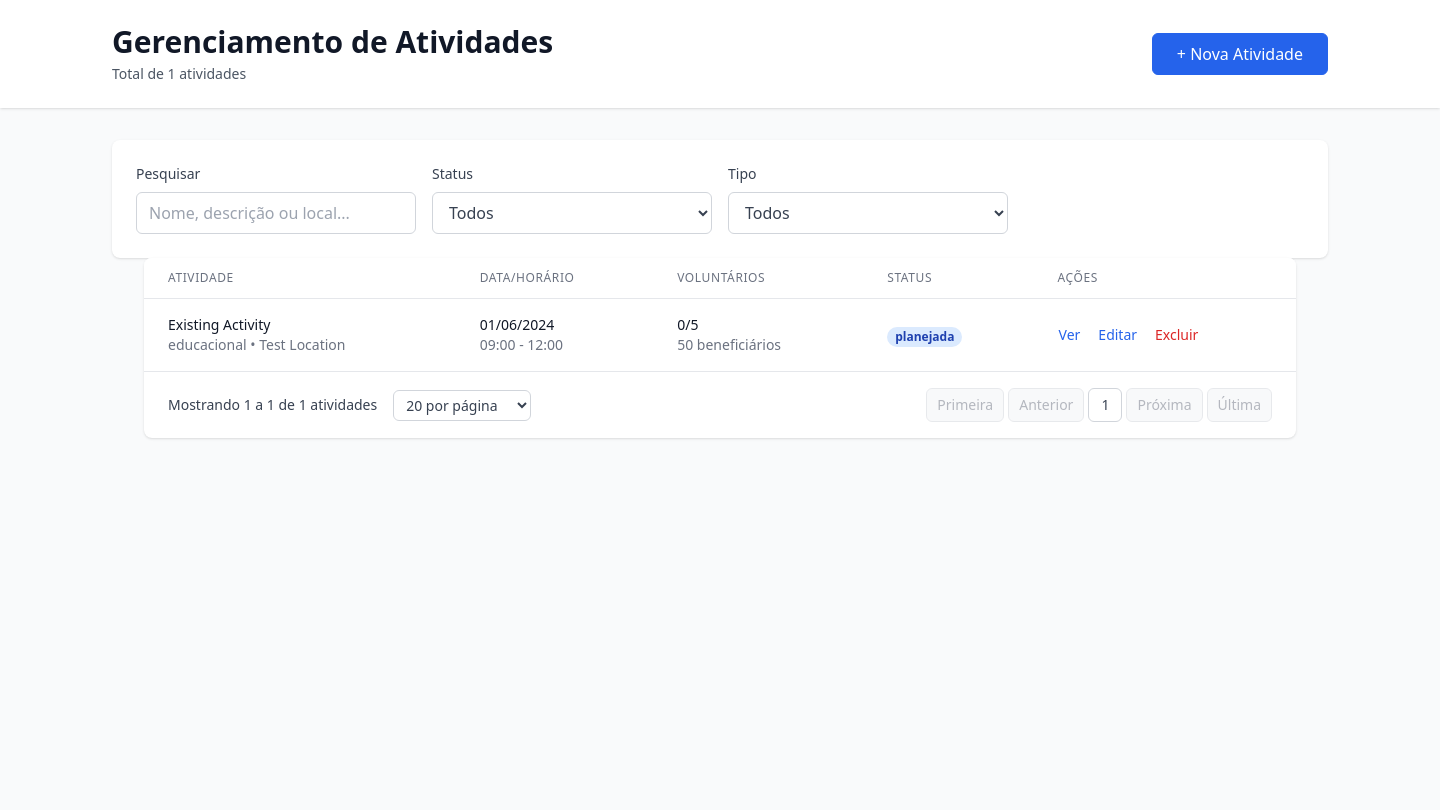
Test: ONGActivitiesPage › Edit Activity › should open edit modal with activity data
Step 1. Click the button "Editar" → {"x": 1118, "y": 335}, box 1097,324 -> 1138,346
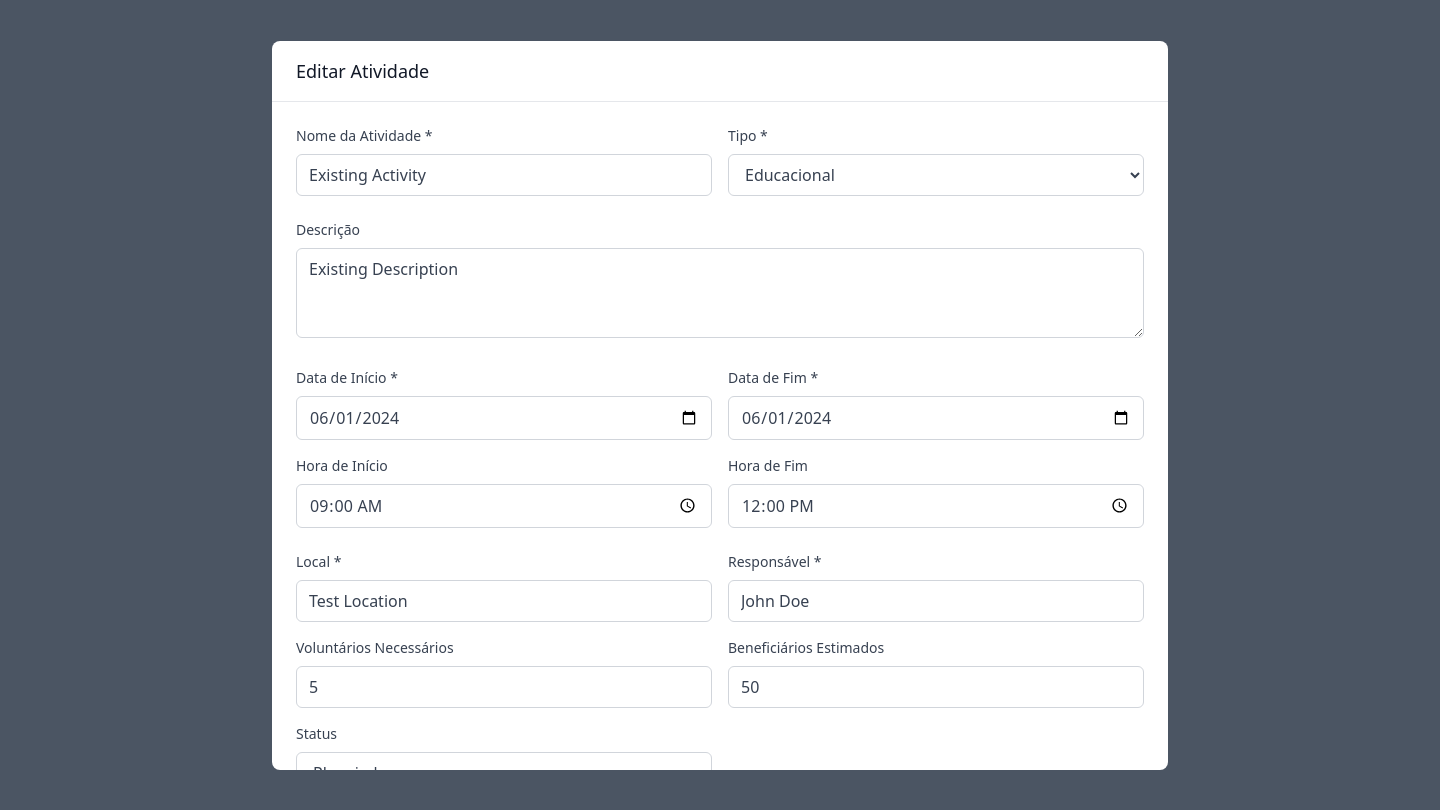
Result: the heading "Editar Atividade" is shown at 296,58 -> 429,82
Result: the field showing "Existing Activity" below "Nome da Atividade *" is shown at 296,154 -> 712,196
Result: the text box showing "Existing Description" is shown at 296,248 -> 1144,338
